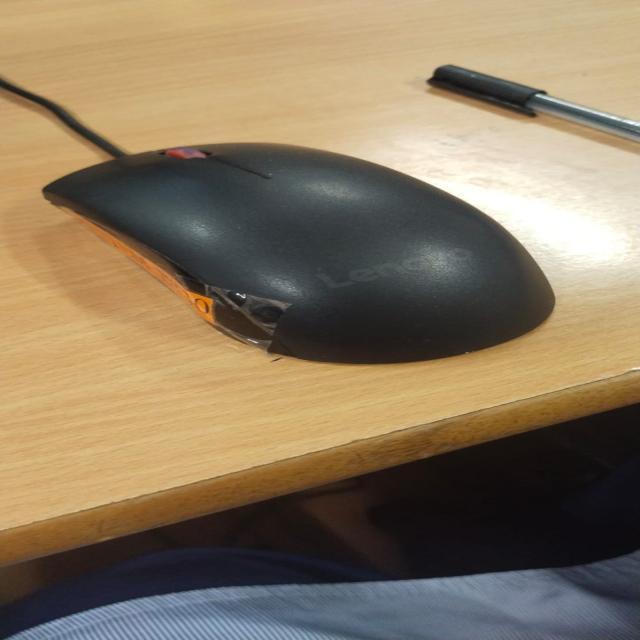mouse: (103, 144, 629, 373), (435, 42, 640, 160)
